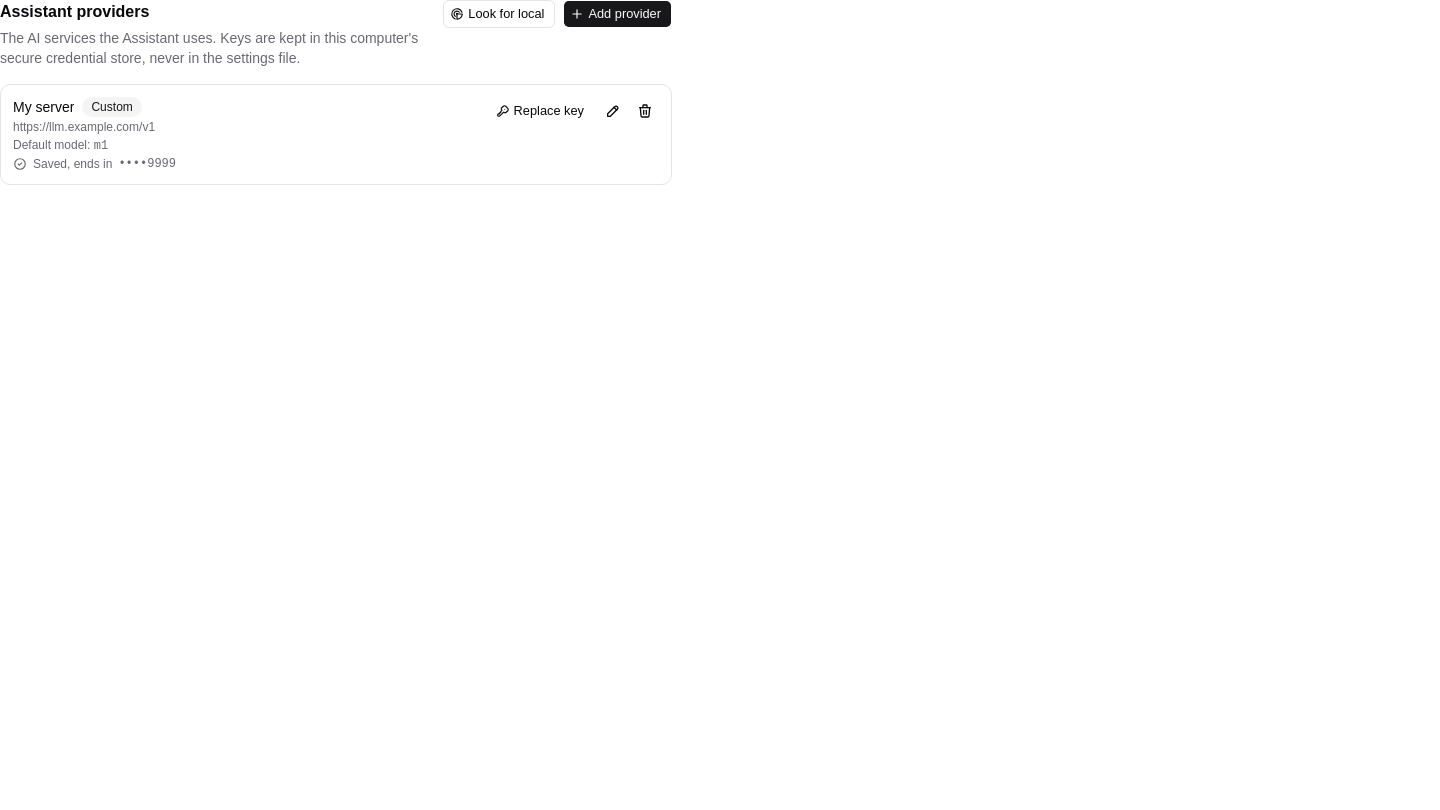
provider settings › tells the user the key was removed when the address changed, and asks for it again
The image size is (1440, 810).
Click the button named "Edit My server": click(613, 111) [599,97,627,125]
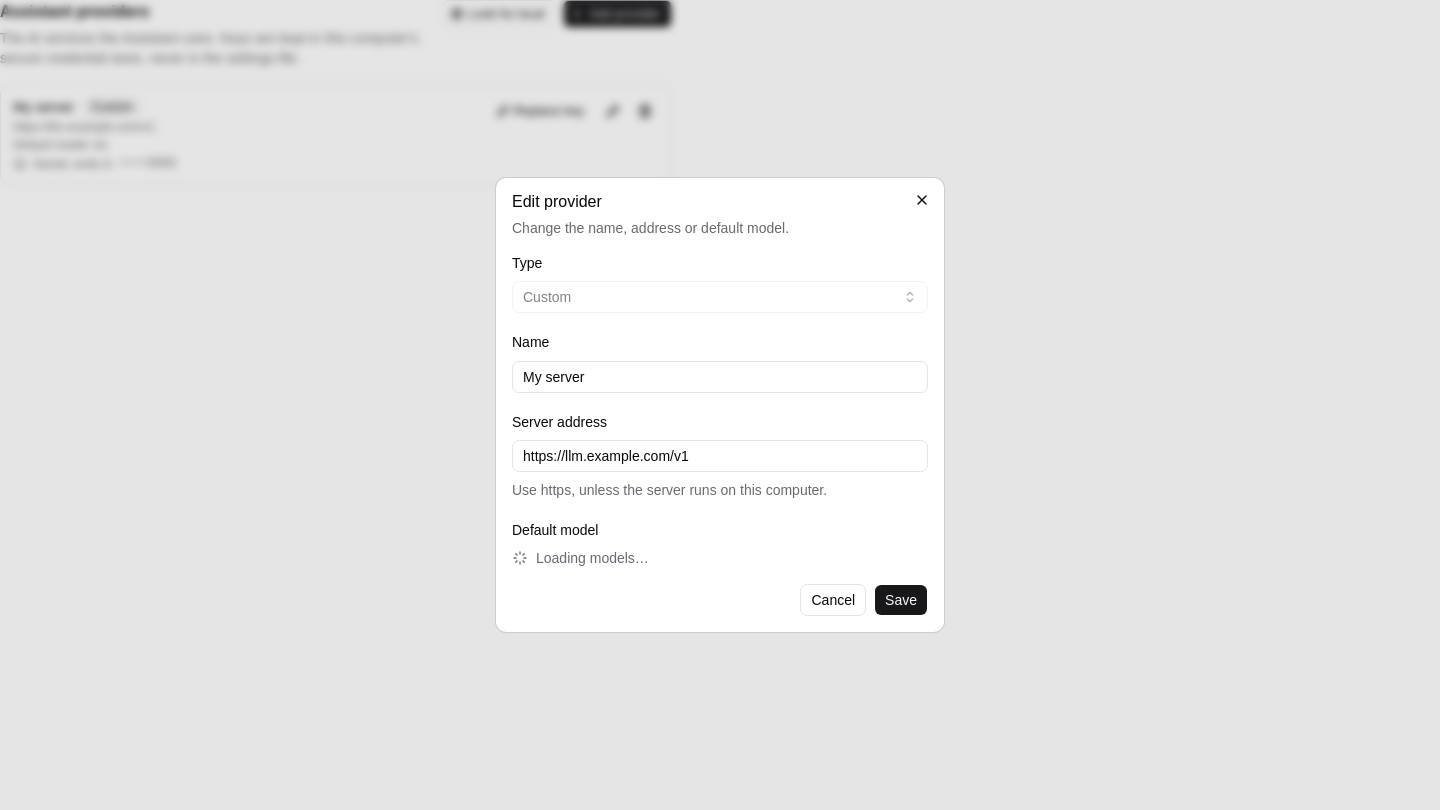
Replace the text in the field labelled "Server address" with "https://other.example.com/v1": (720, 456) [512,440,928,472]
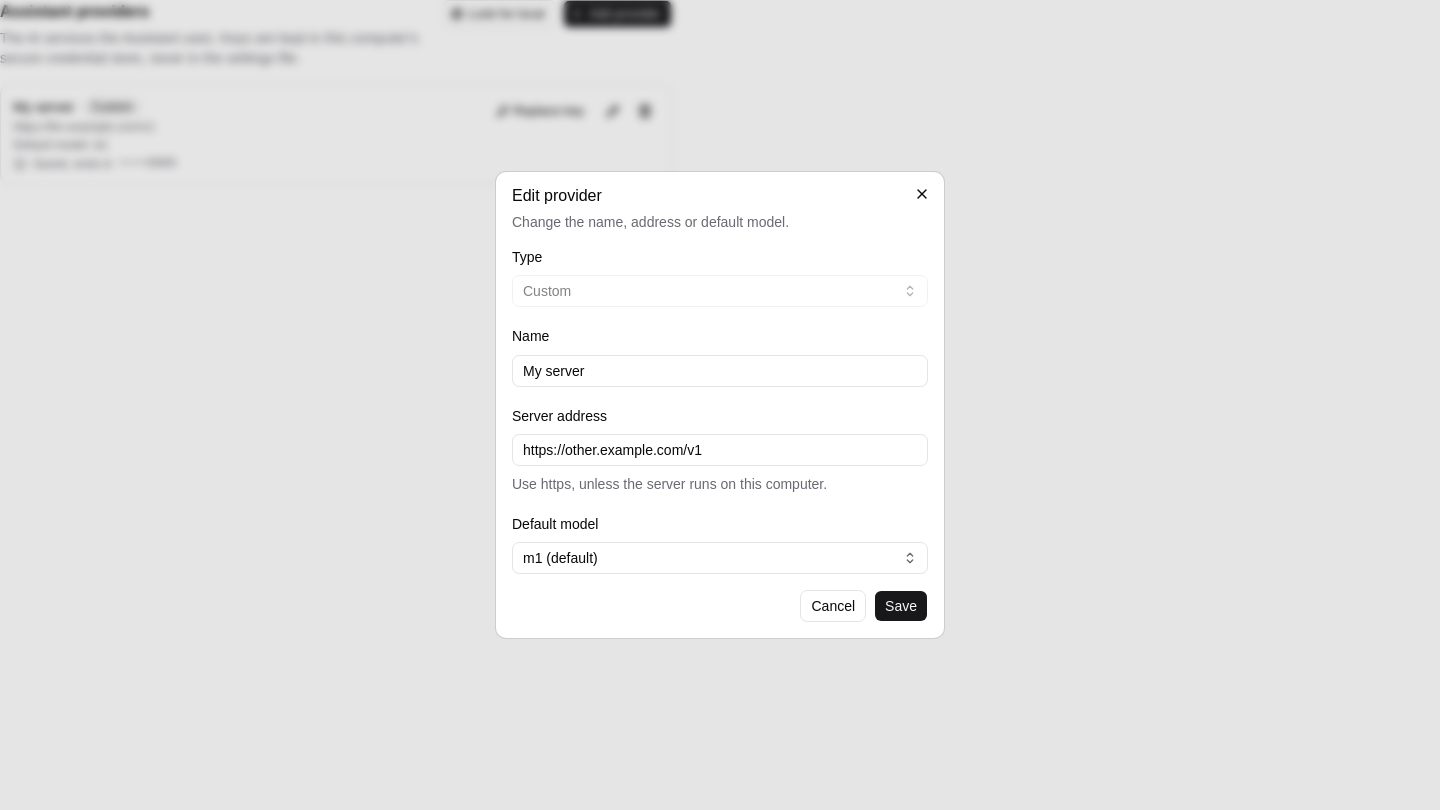
Click the button "Save": click(901, 606) [874,590,928,622]
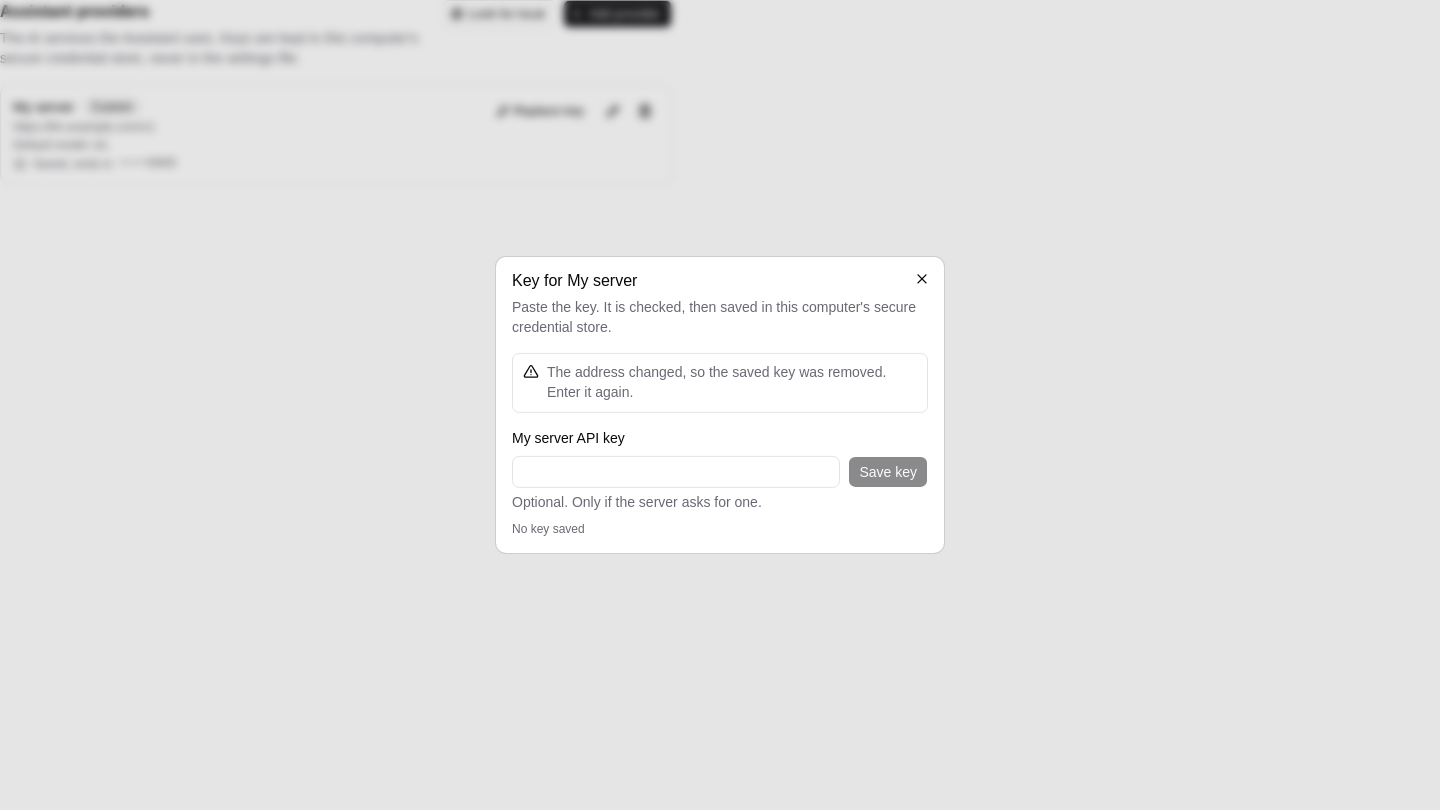
Check: the message reads "The address changed, so the saved key was removed. Enter it again.", box [547,364,886,400]
Check: the password field labelled "My server API key" is shown, box [512,456,840,488]
